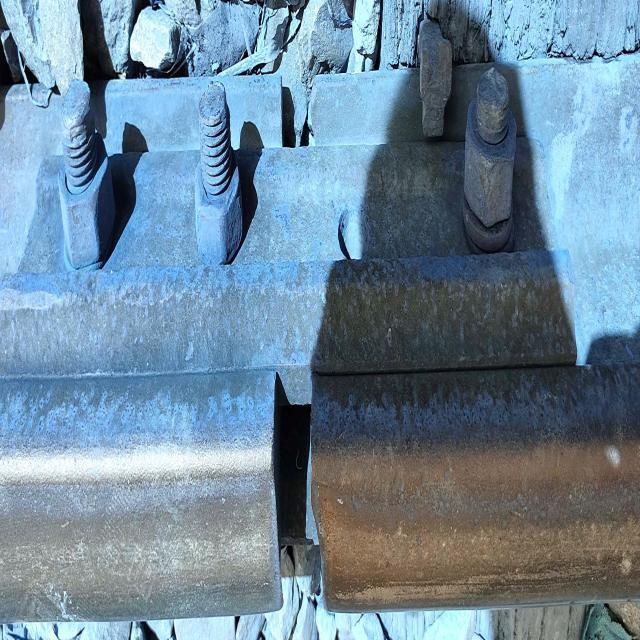Defective Joint: (0, 64, 577, 373), (0, 310, 140, 375)
